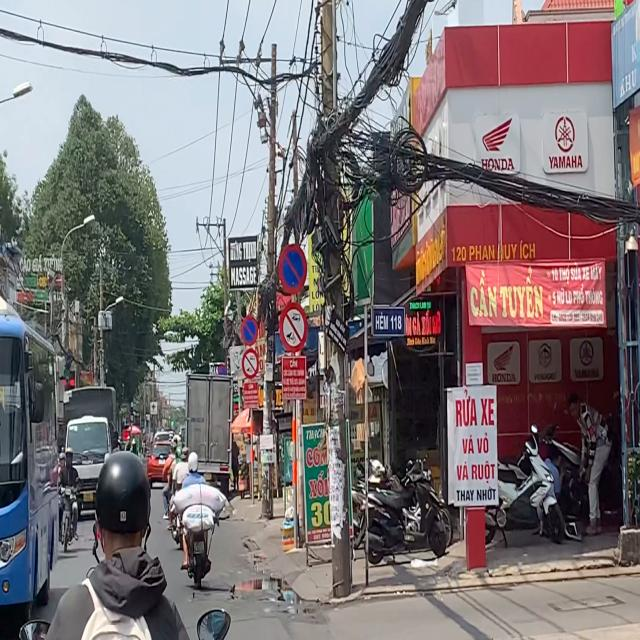Cam con lai: (276, 300, 308, 354), (241, 350, 260, 381)
Cam do: (278, 243, 307, 294), (241, 316, 258, 346)
